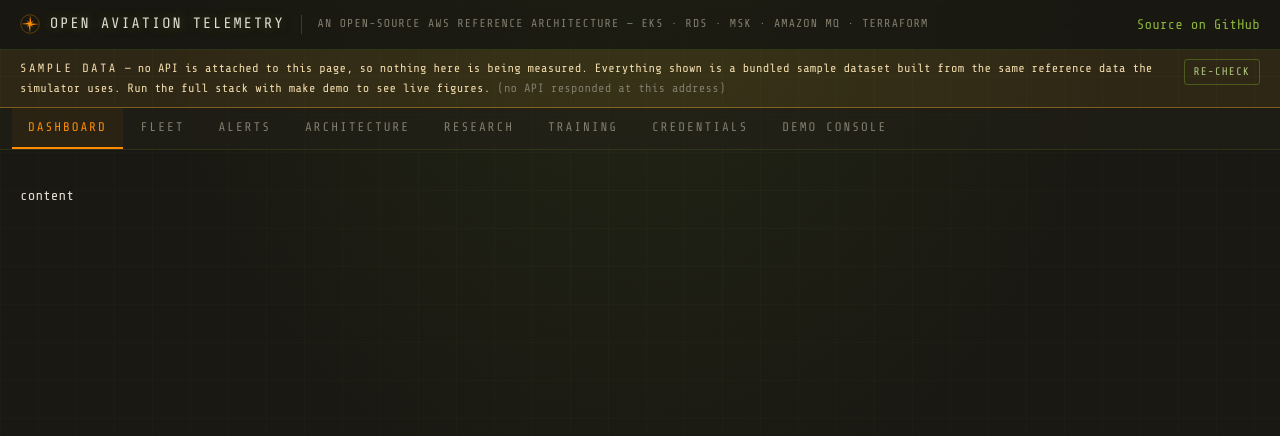
the data-source banner › re-checks on demand and switches to live when the API appears
The width and height of the screenshot is (1280, 436).
Expected: the text "SAMPLE DATA" is shown, [20,61,118,75]
Step 1. Click the button "Re-check" → (1222, 72), box [1184,59,1260,85]
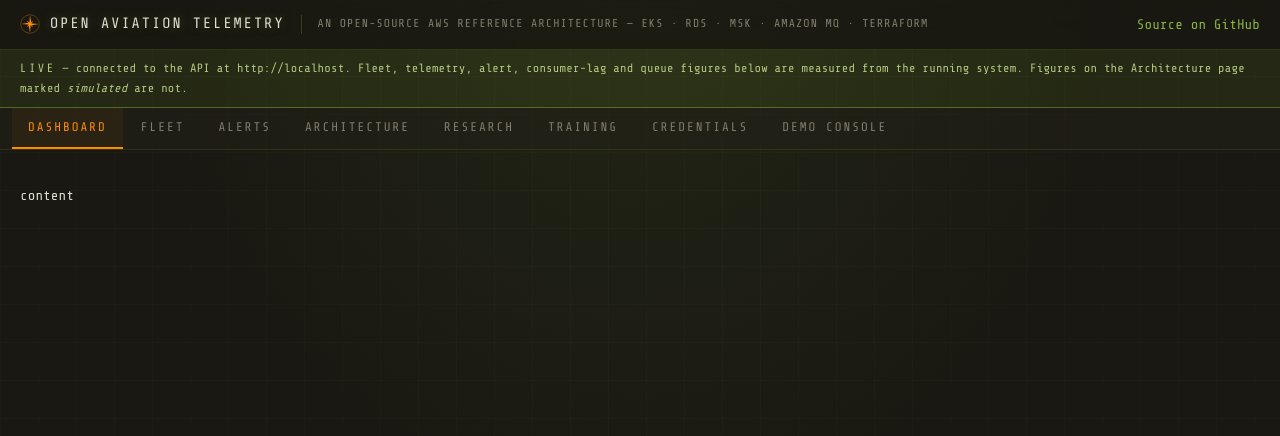
Expected: the text "LIVE" is shown, [20,61,56,75]
